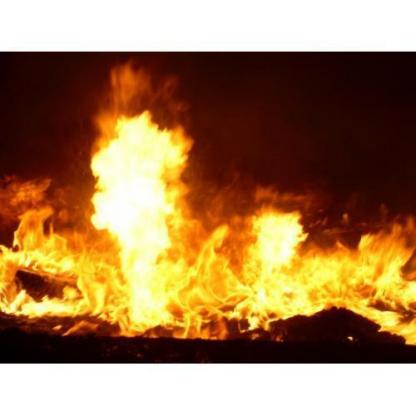fire: (1, 70, 414, 350)
